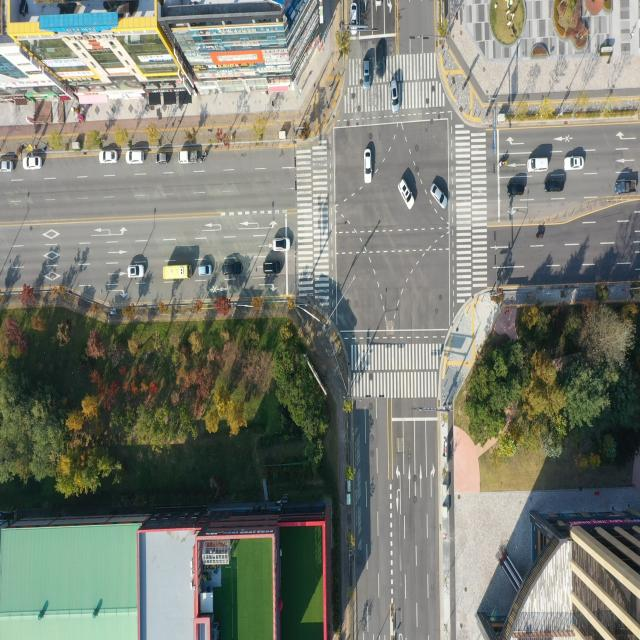car: (398, 178, 414, 208), (430, 182, 448, 208), (363, 149, 372, 185), (375, 42, 384, 78), (100, 148, 120, 164), (390, 79, 399, 113), (529, 158, 549, 173), (563, 158, 583, 172), (24, 158, 44, 172), (127, 149, 145, 164), (509, 182, 527, 196), (544, 179, 562, 192), (222, 265, 241, 277), (129, 266, 145, 280), (350, 2, 357, 34), (265, 263, 283, 275), (0, 160, 15, 174), (274, 239, 290, 251), (364, 59, 371, 86), (157, 152, 172, 164), (199, 266, 213, 278)
small_bus: (162, 265, 192, 283)
small_truck: (615, 179, 637, 194), (178, 150, 197, 164)
